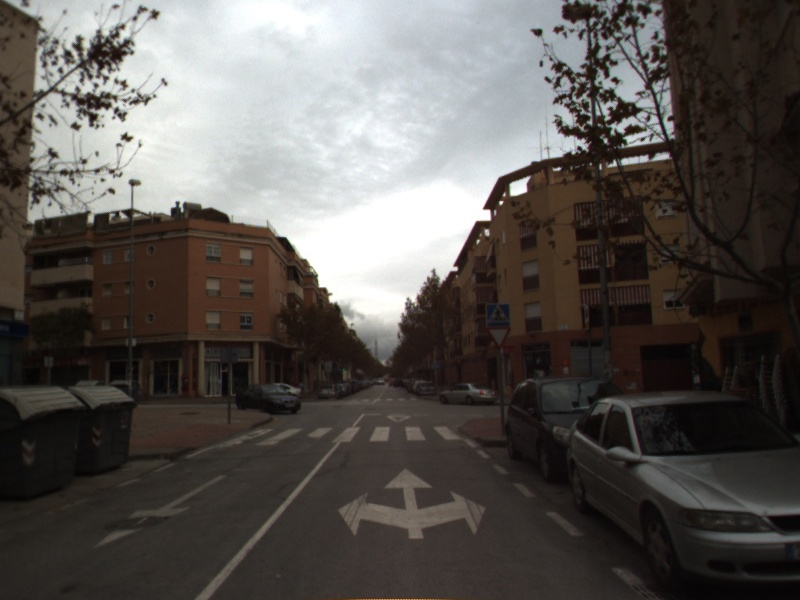STRAIGHT_LEFT_RIGHT: (336, 466, 488, 541)
